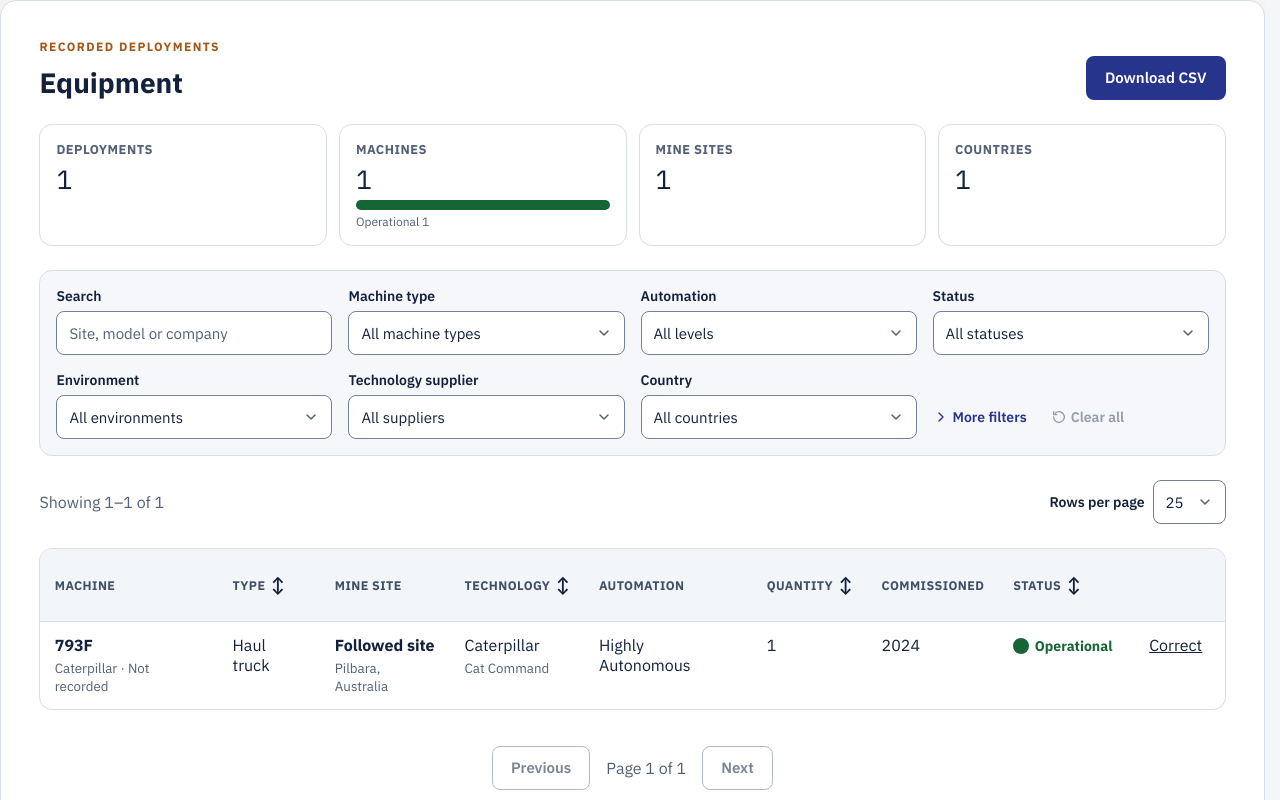
Test: EquipmentPage › keeps a proposed correction in this browser so its proposer can follow it
The image size is (1280, 800).
Click the button named "correct followed site". click: [1176, 645]
box: [1141,623,1210,667]
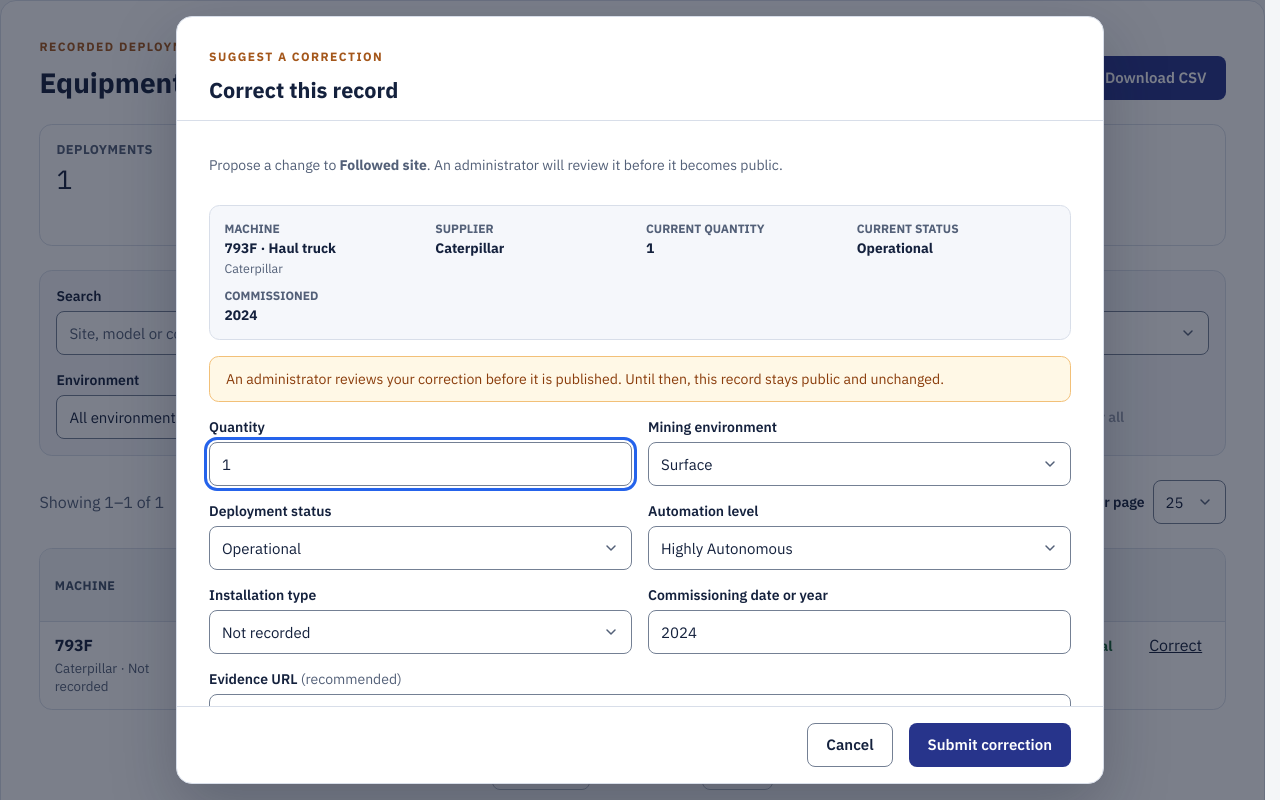
Replace the text in the field labelled "Quantity" with "2". click: [420, 464]
box: [209,442,632,486]
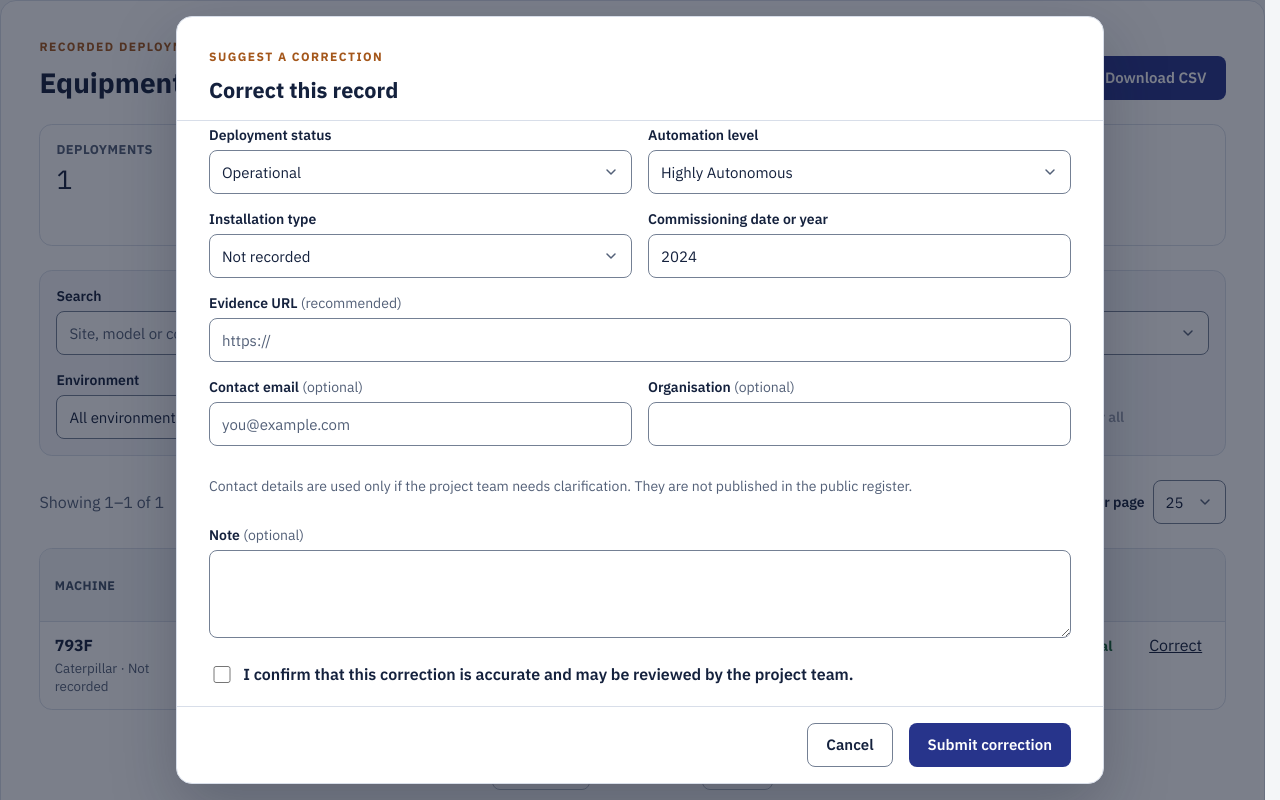
Click the checkbox. click: [222, 674]
box: [213,666,231,683]
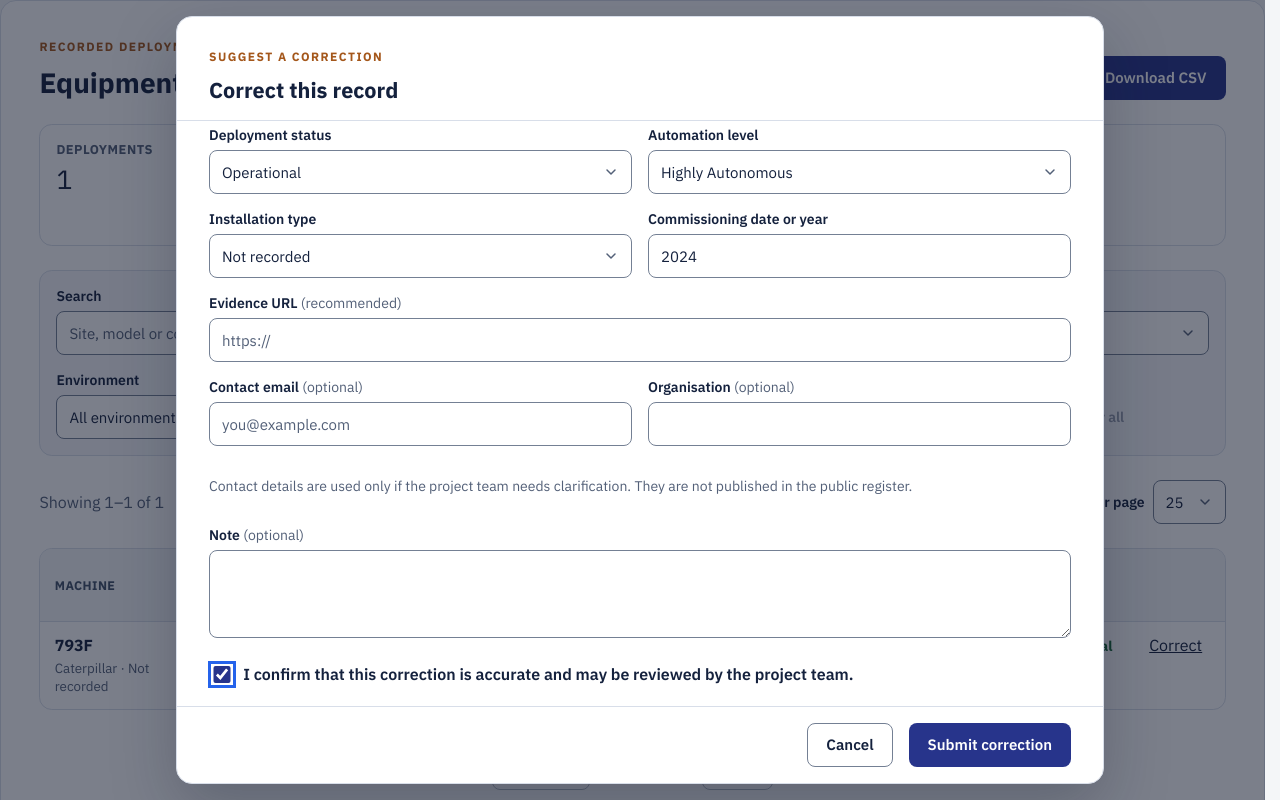
Click the button "Submit correction". click: [990, 745]
box: [909,723,1071,767]
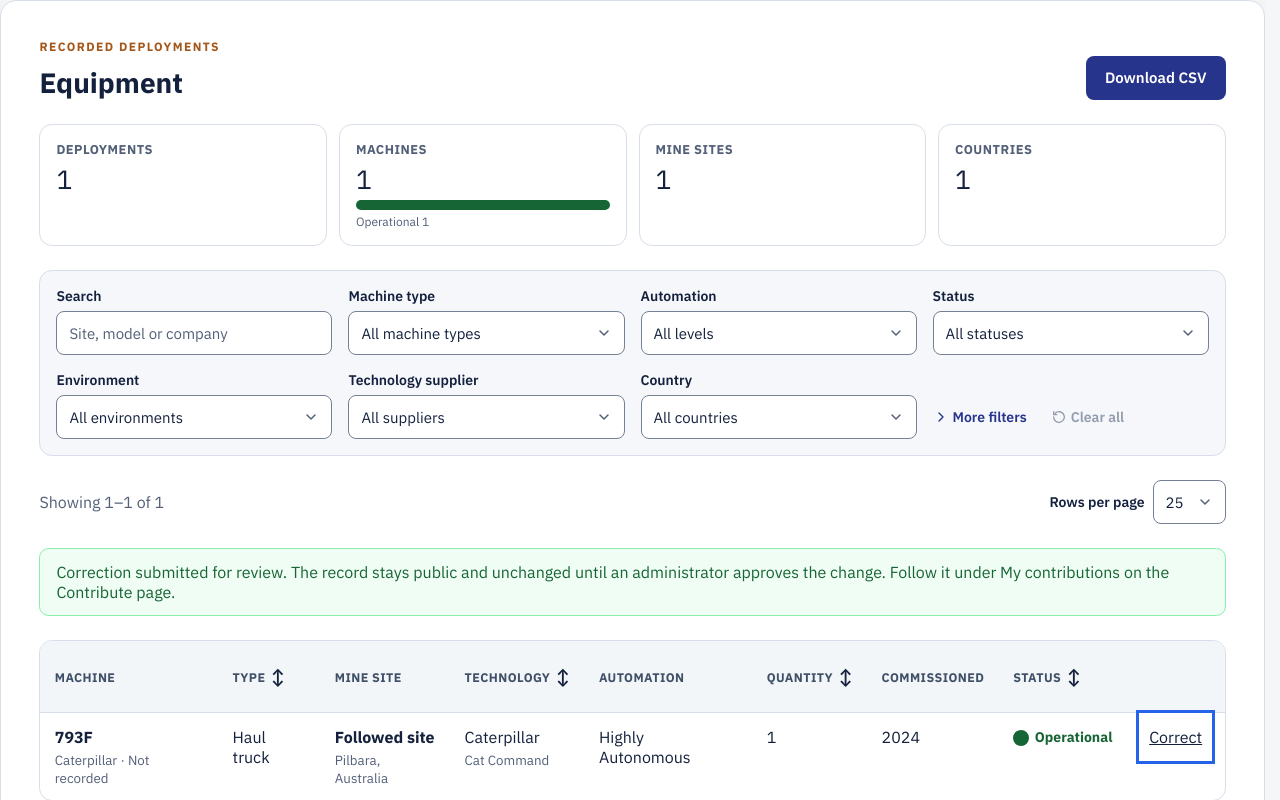
Expected: the text "Follow it under My contributions on the Contribute page" is shown, [56,562,1169,602]
